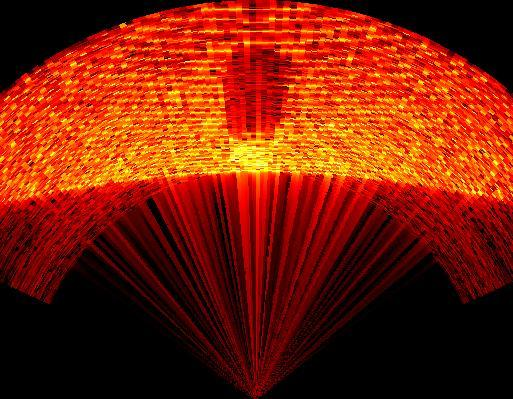box_crate: (222, 45, 294, 138)
